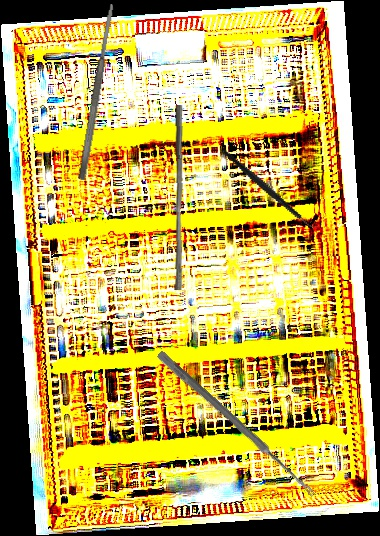Chopper: (221, 126, 321, 252)
Pusher: (167, 104, 190, 291)
Spatula Surgical: (76, 3, 118, 181)
Surgical Spoon: (155, 350, 318, 498)
